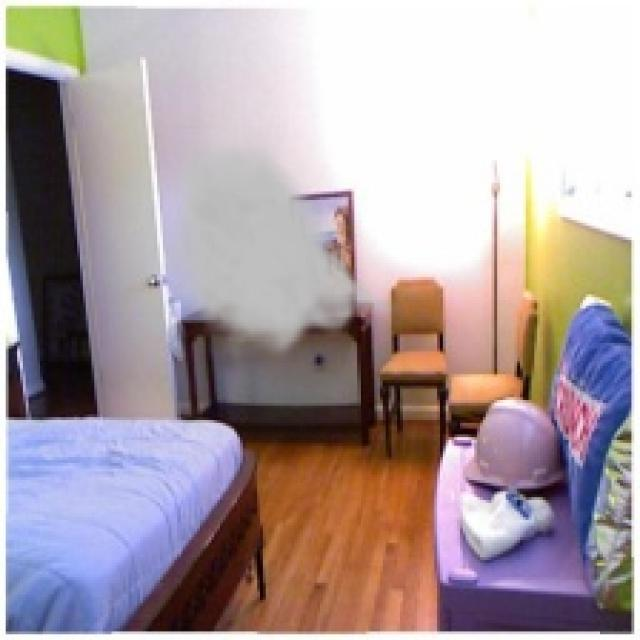smoke: (160, 126, 403, 363)
